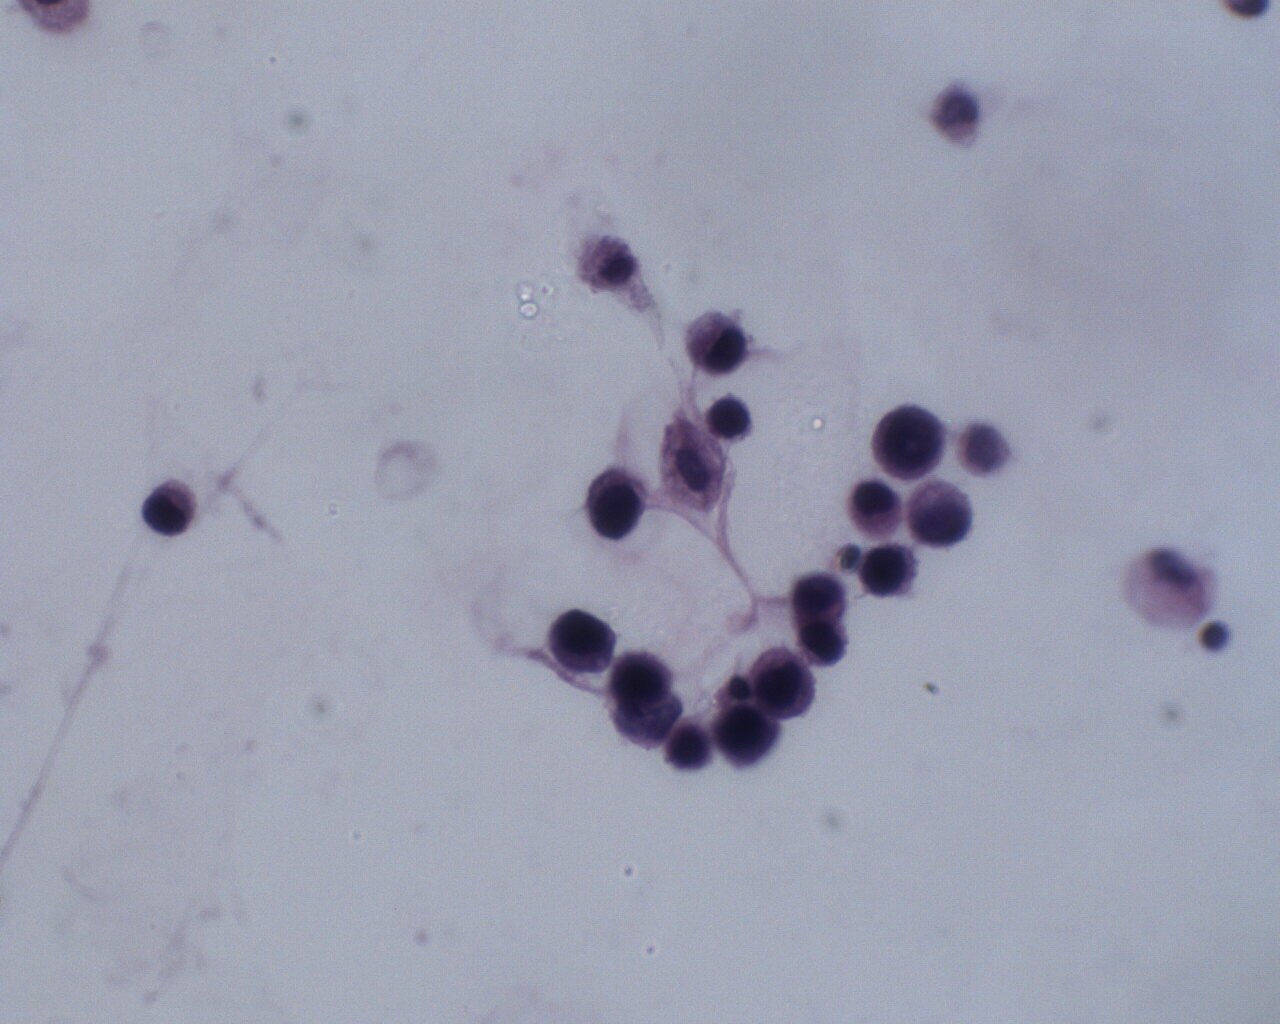ab: (870, 403, 951, 481), (746, 643, 819, 719), (709, 707, 784, 776), (906, 478, 976, 550), (586, 468, 649, 544), (682, 310, 751, 378), (546, 608, 614, 674), (859, 538, 921, 602), (848, 478, 909, 541), (786, 569, 850, 629), (140, 478, 200, 538), (705, 394, 755, 444)
